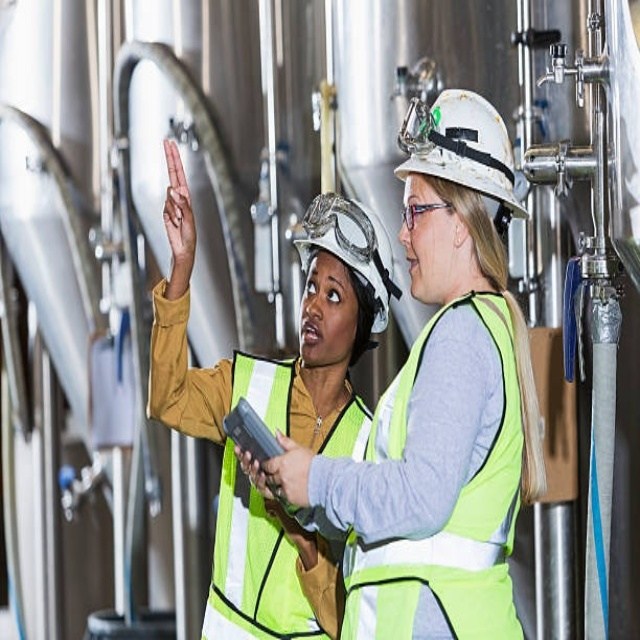Gafas: (399, 195, 449, 231)
Sin_gafas: (303, 268, 352, 312)
Sin_guantes: (265, 420, 316, 516), (161, 132, 196, 268), (236, 435, 288, 505)
Sin_mascara: (298, 315, 330, 364), (405, 243, 432, 293)
